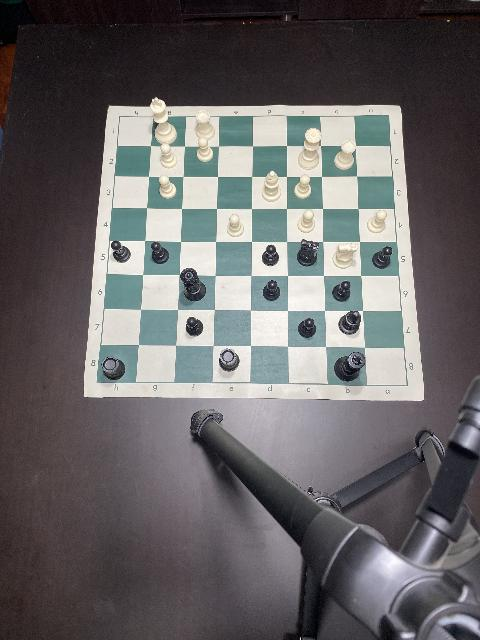black-bishop: (338, 312, 360, 334)
black-king: (333, 352, 364, 382)
black-knight: (297, 240, 320, 266)
black-pawn: (110, 240, 132, 264), (372, 246, 392, 268), (150, 242, 169, 264), (262, 245, 280, 268), (333, 280, 351, 302), (298, 318, 316, 338), (186, 317, 202, 337), (264, 281, 280, 301)
black-queen: (179, 268, 207, 302)
black-rook: (102, 356, 126, 382), (220, 348, 241, 374)
board: (82, 106, 424, 400)
white-bishop: (260, 171, 282, 201)
white-king: (150, 97, 176, 145)
white-knight: (332, 243, 358, 269)
white-pawn: (156, 177, 177, 200), (366, 210, 386, 234), (226, 214, 246, 238), (194, 138, 214, 162), (294, 174, 312, 200), (160, 144, 178, 168), (297, 211, 315, 231)
white-queen: (299, 128, 322, 168)
white-rook: (334, 140, 356, 172), (195, 110, 215, 140)
